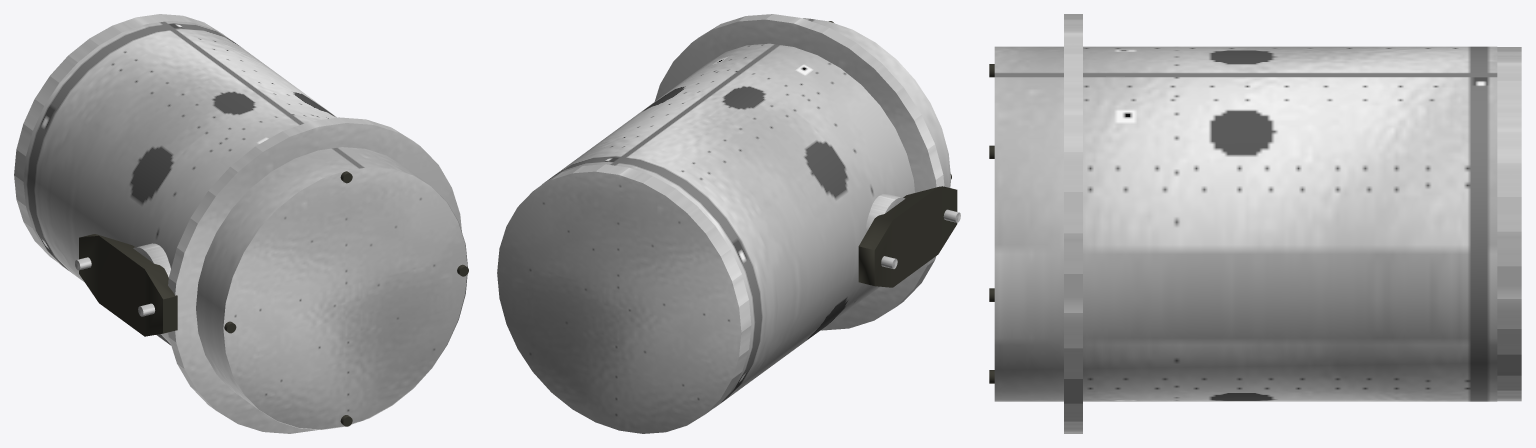
Rendered from demosat.obj.
3 views of the same model, side by side, from view 1: azimuth 30°, elevation 25°; view 2: azimuth 150°, elevation 25°; view 3: azimuth 270°, elevation 25° (orthographic). The views are drawn at different scales.
Visible parts, largest first — view 1: group8, group11, group9, group6, group10, group7; view 2: group8, group10, group9, group6, group7; view 3: group8, group10, group9.
Part boxes in pixels (x1=…): group8: x1=23, y1=21, x2=467, y2=429; group11: x1=223, y1=167, x2=467, y2=429; group9: x1=168, y1=117, x2=461, y2=433; group6: x1=79, y1=234, x2=177, y2=336; group10: x1=14, y1=14, x2=227, y2=262; group7: x1=133, y1=243, x2=170, y2=277; group8: x1=542, y1=18, x2=951, y2=407; group10: x1=497, y1=164, x2=751, y2=433; group9: x1=654, y1=14, x2=944, y2=330; group6: x1=858, y1=186, x2=957, y2=287; group7: x1=865, y1=193, x2=905, y2=234; group8: x1=994, y1=46, x2=1497, y2=401; group10: x1=1497, y1=47, x2=1521, y2=401; group9: x1=1064, y1=14, x2=1082, y2=433.
Size of the model in its own units: 1.79 by 1.66 by 2.1.
4 materials, 3 textured.
